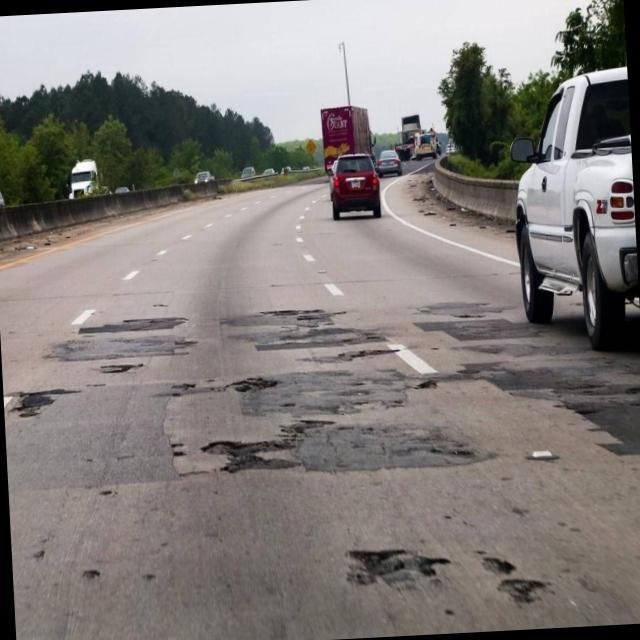Pothole: (480, 546, 550, 618), (200, 422, 280, 477), (346, 536, 416, 594), (286, 407, 332, 446), (16, 382, 55, 422), (232, 372, 278, 398), (416, 370, 441, 401)
